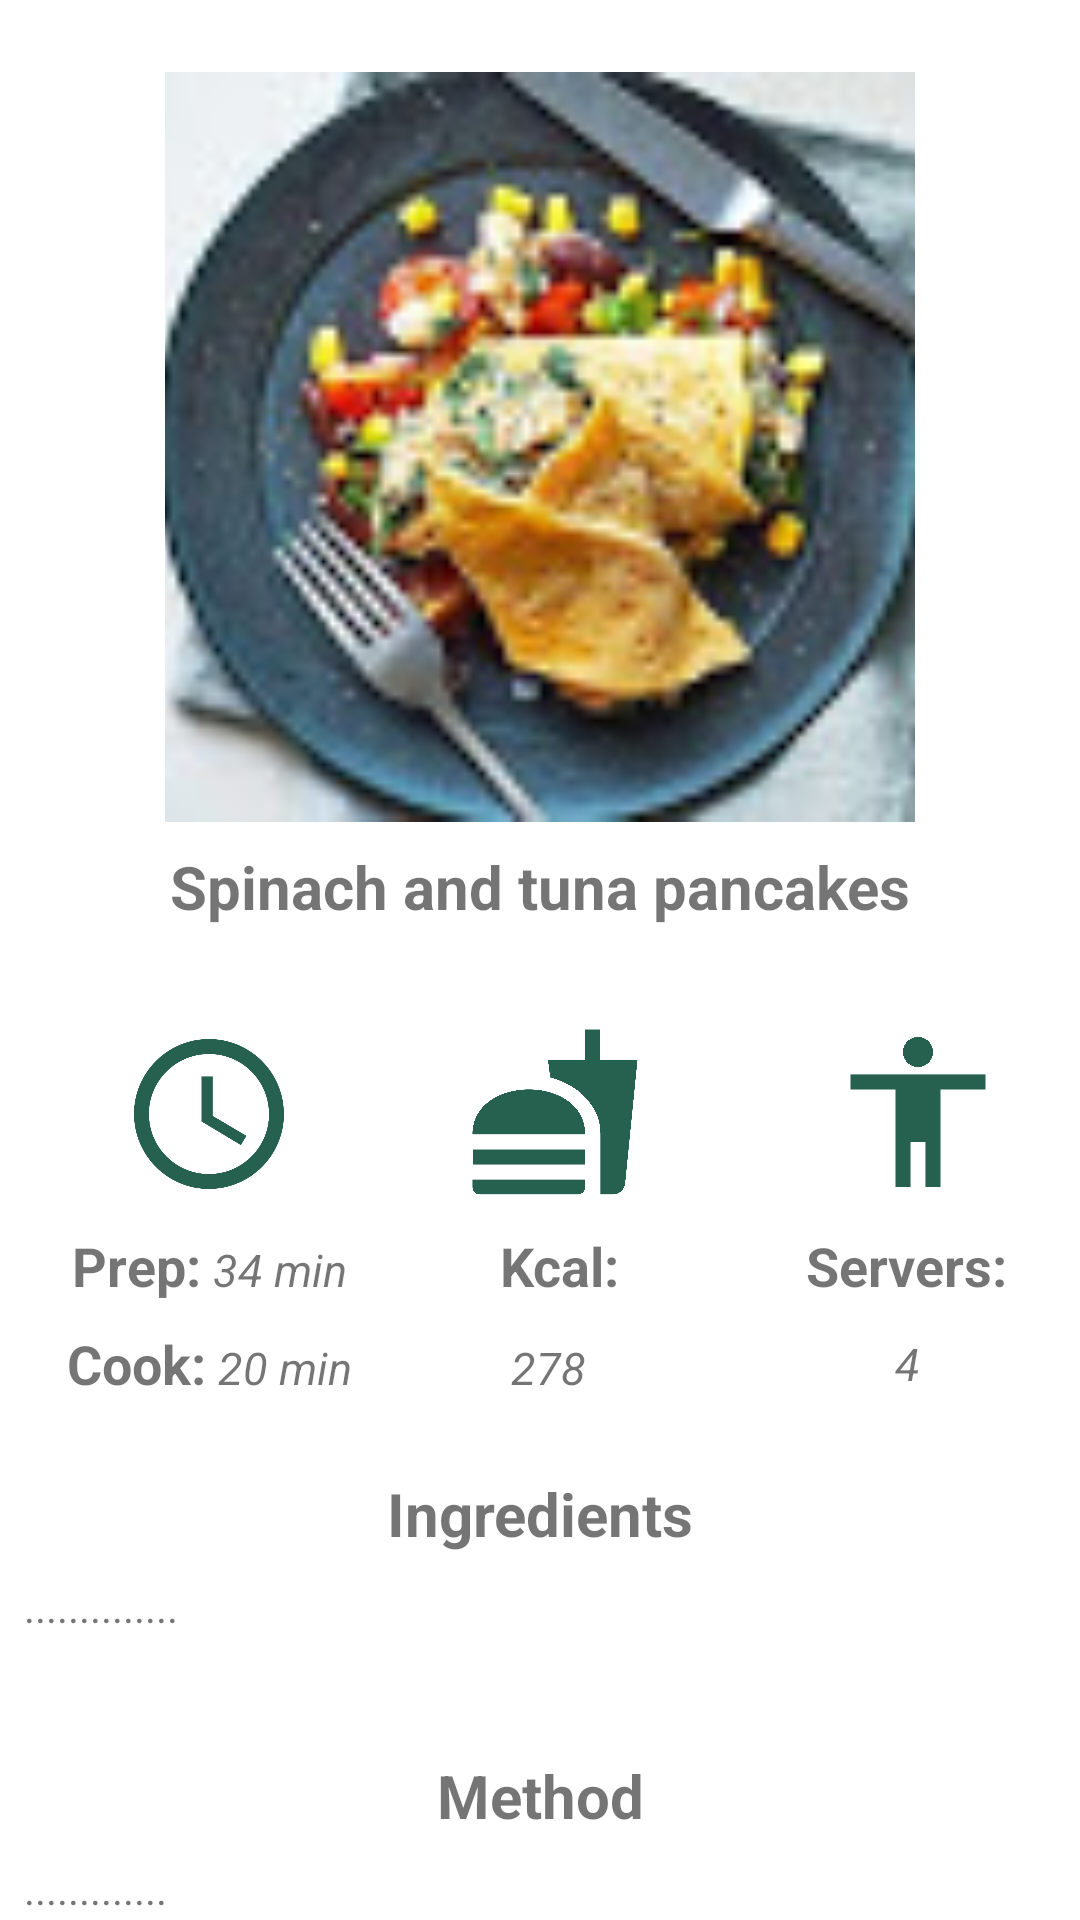

Icons on this 1080 x 1920 Android screen, each with the point to tap as [x,y]:
access time: [209,1114]
accessibility: [918,1112]
fastfood: [555,1112]
